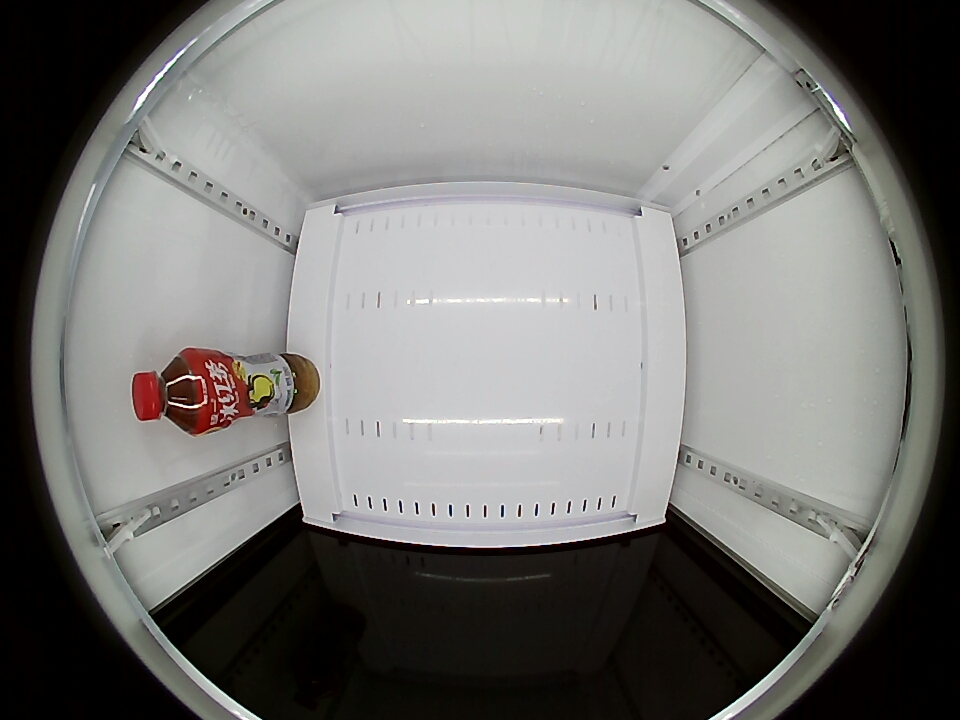binghongcha: (130, 349, 215, 435)
